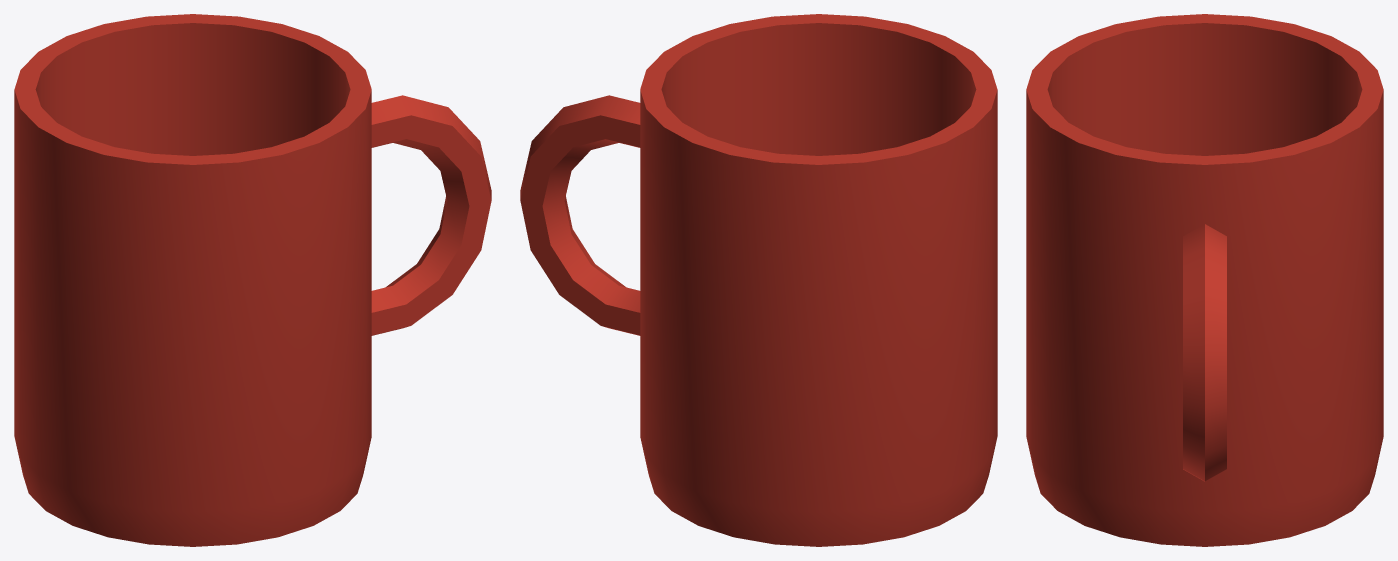
Rendered from mug_red.glb.
The picture shows the model from 3 angles, left to right: view 1: azimuth 30°, elevation 25°; view 2: azimuth 150°, elevation 25°; view 3: azimuth 270°, elevation 25°; orthographic projection.
Visible parts, largest first — view 1: mug, Torus; view 2: mug, Torus; view 3: mug, Torus.
Part boxes in pixels (x1=…): mug: x1=14, y1=14, x2=371, y2=546; Torus: x1=371, y1=95, x2=491, y2=335; mug: x1=640, y1=14, x2=997, y2=546; Torus: x1=520, y1=95, x2=640, y2=335; mug: x1=1026, y1=14, x2=1383, y2=546; Torus: x1=1183, y1=224, x2=1226, y2=481.
Bounding box in the file's own units: 0.123 × 0.1 × 0.084.
